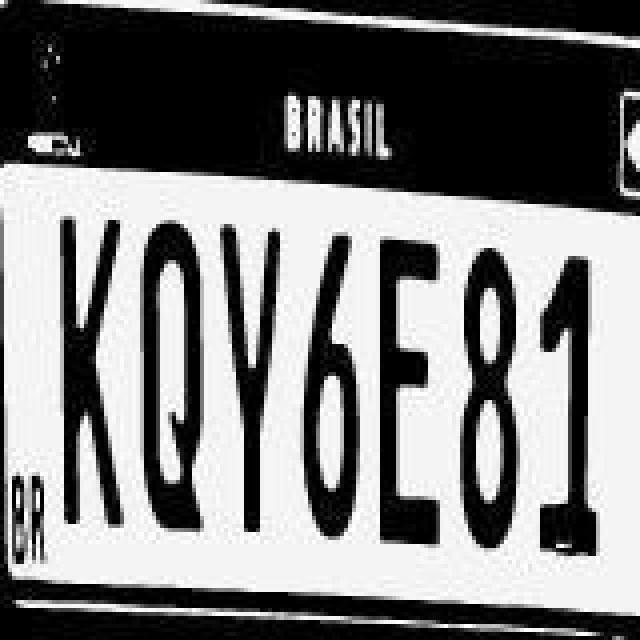1: (534, 252, 602, 564)
6: (294, 226, 362, 542)
8: (456, 246, 520, 554)
E: (372, 234, 444, 550)
K: (52, 210, 124, 534)
Q: (136, 218, 208, 534)
Y: (218, 220, 286, 540)
